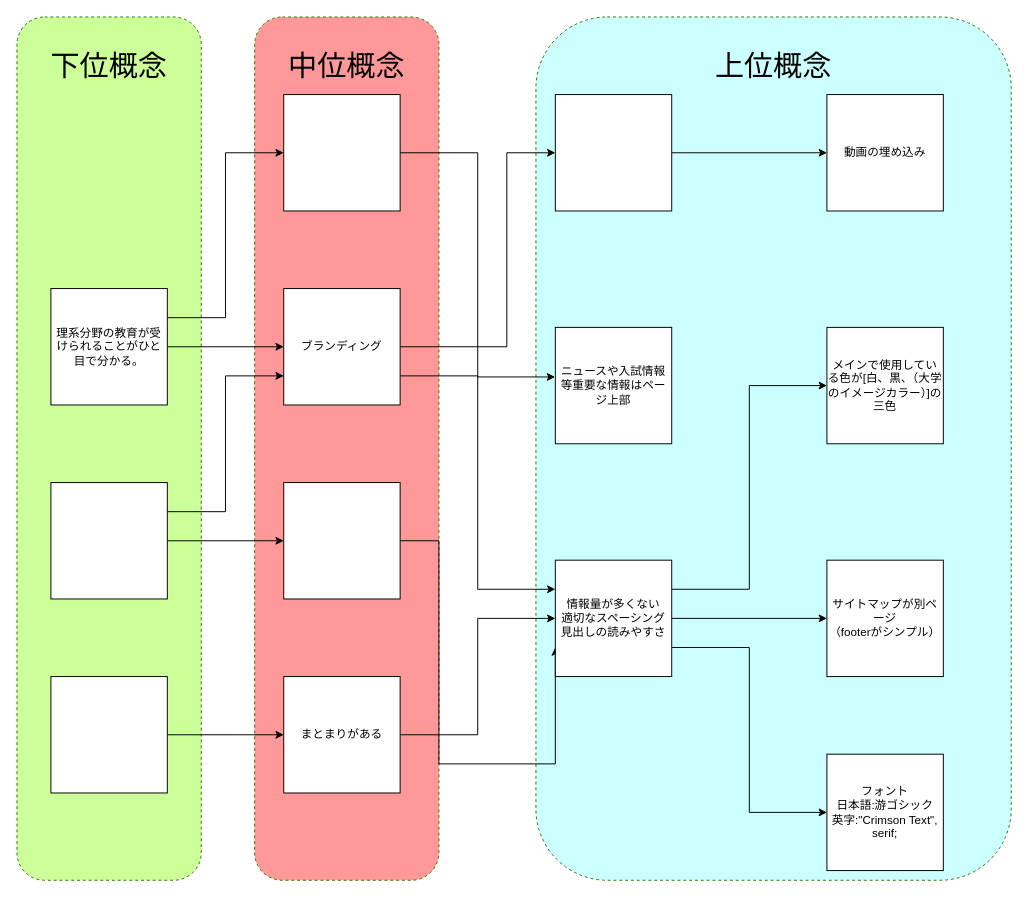
Some shapes in this 1028 by 897 pixel diagram are drawn without their labels. The shapes that lost their labels are listed below. From the top down, each one's centre as x and y in pixels, then its label:
At [341,152]: "スタイリッシュ".
At [613,152]: "bannerの配置 （header下）".
At [108,540]: "しっかり学習研究ができそうなイメージ".
At [341,540]: "格式高い印象".
At [108,734]: "情報が適度にまとまっていて操作しやすい、探しいてる情報にアクセスしやすい。見せたい情報を見せやすい。".
